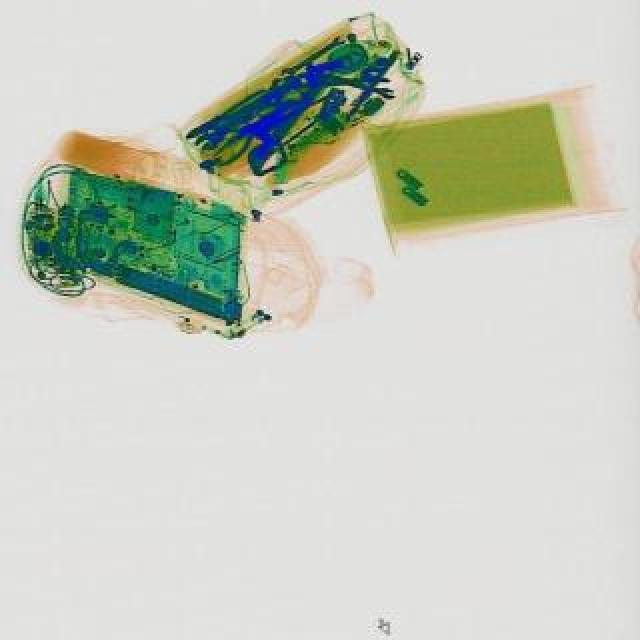scissors: (282, 34, 352, 86), (314, 70, 398, 102)
wrench: (200, 106, 288, 172)
